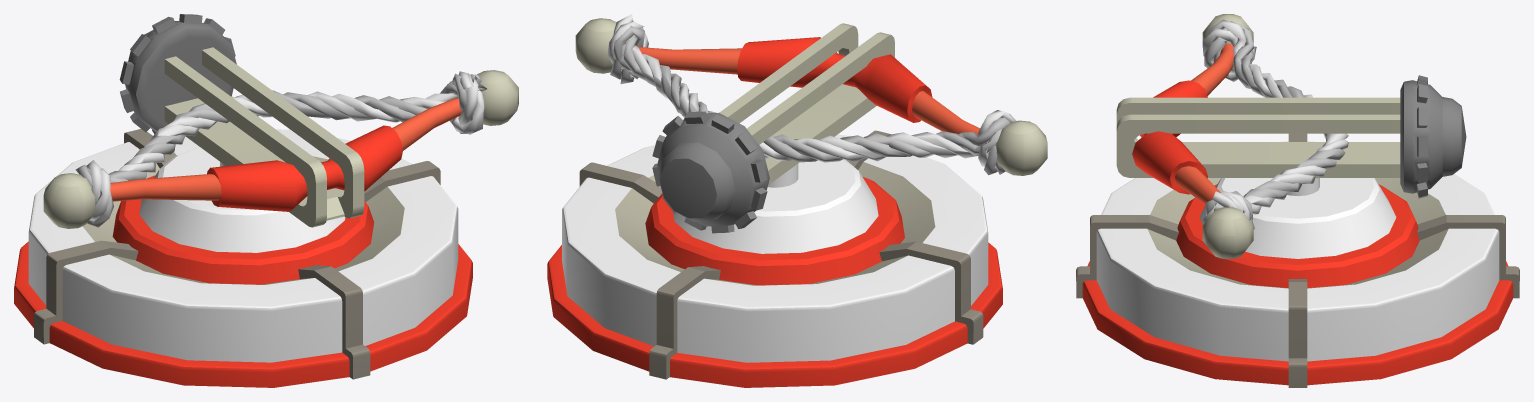
Rendered from island6.arrow2.fbx.
The picture shows the model from 3 angles, left to right: view 1: azimuth 30°, elevation 25°; view 2: azimuth 150°, elevation 25°; view 3: azimuth 270°, elevation 25°; orthographic projection. The views are drawn at different scales.
Visible parts, largest first — view 1: island6-arrow2, island6-arrow2.01, island6-arrow2.02, island6-arrow2-rope; view 2: island6-arrow2, island6-arrow2.01, island6-arrow2.02, island6-arrow2-rope; view 3: island6-arrow2, island6-arrow2.01, island6-arrow2.02, island6-arrow2-rope.
Part boxes in pixels (x1=…): island6-arrow2: x1=14, y1=129, x2=472, y2=387; island6-arrow2.01: x1=119, y1=14, x2=364, y2=252; island6-arrow2.02: x1=43, y1=70, x2=518, y2=228; island6-arrow2-rope: x1=75, y1=71, x2=486, y2=227; island6-arrow2: x1=547, y1=130, x2=1002, y2=387; island6-arrow2.01: x1=652, y1=23, x2=894, y2=253; island6-arrow2.02: x1=575, y1=18, x2=1047, y2=175; island6-arrow2-rope: x1=607, y1=14, x2=1016, y2=175; island6-arrow2: x1=1076, y1=133, x2=1519, y2=387; island6-arrow2.01: x1=1116, y1=75, x2=1466, y2=258; island6-arrow2.02: x1=1132, y1=14, x2=1253, y2=258; island6-arrow2-rope: x1=1202, y1=19, x2=1348, y2=229.
Bounding box in the file's own units: 4.06 × 1.89 × 3.56.
3 materials, 1 textured.
